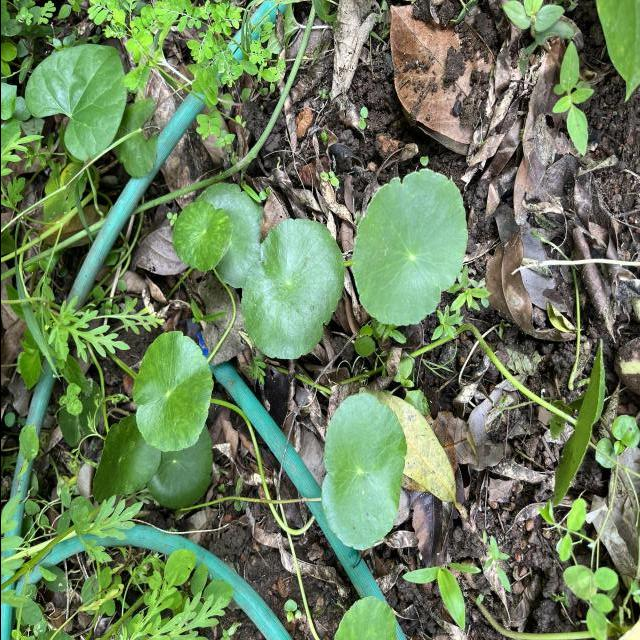Bacopa monnieri: (348, 166, 469, 328), (238, 216, 346, 362), (318, 391, 408, 552), (129, 330, 215, 454), (90, 412, 162, 504), (170, 200, 233, 274)
